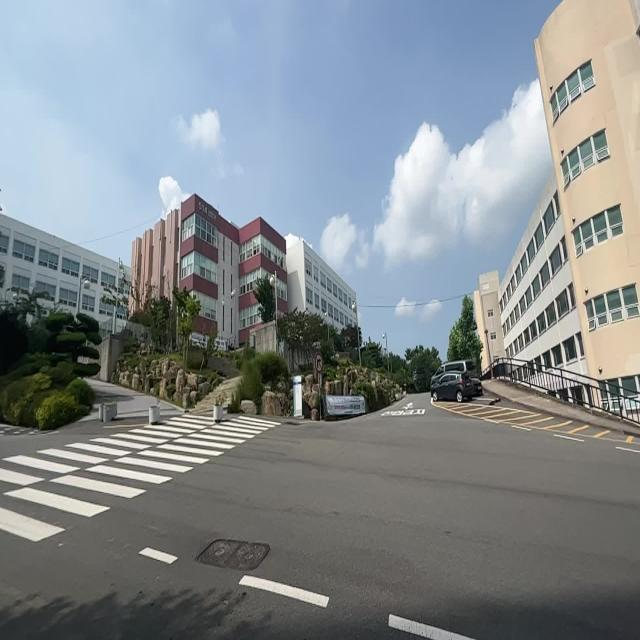building: (125, 185, 358, 326)
